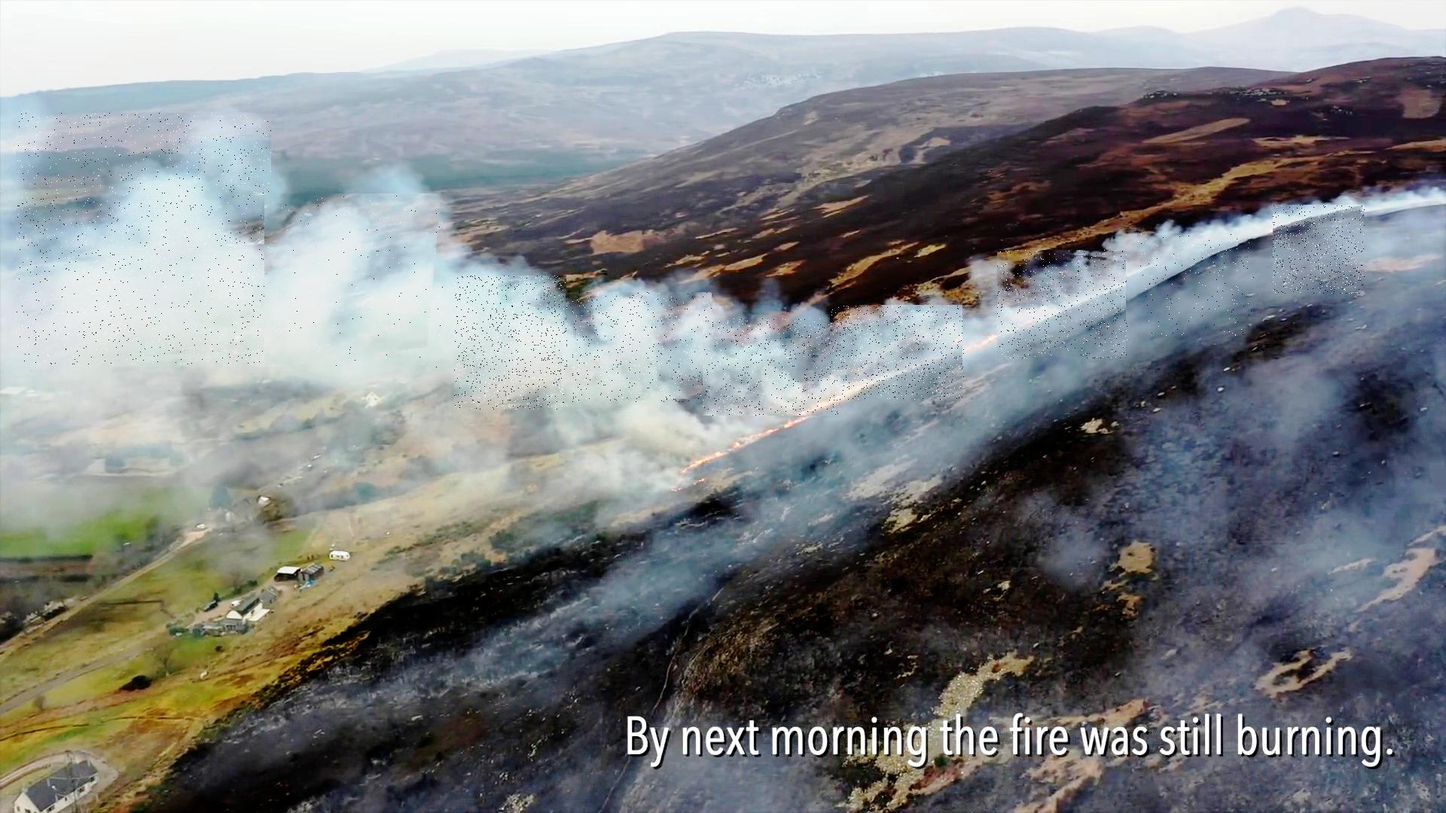smoke: (16, 113, 271, 365), (264, 194, 443, 369), (572, 292, 712, 402), (454, 275, 567, 410), (998, 251, 1128, 359), (703, 319, 838, 416), (831, 305, 965, 400), (1138, 233, 1254, 336), (1273, 205, 1365, 294)
